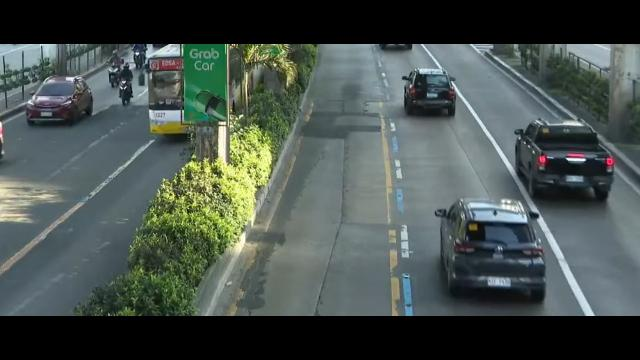bus: (145, 46, 201, 139)
car: (436, 198, 546, 300), (25, 76, 93, 127), (401, 68, 455, 116)
motorcycle: (105, 49, 125, 90), (119, 62, 134, 106), (131, 43, 144, 70)
pickup-truck: (512, 118, 616, 200)
